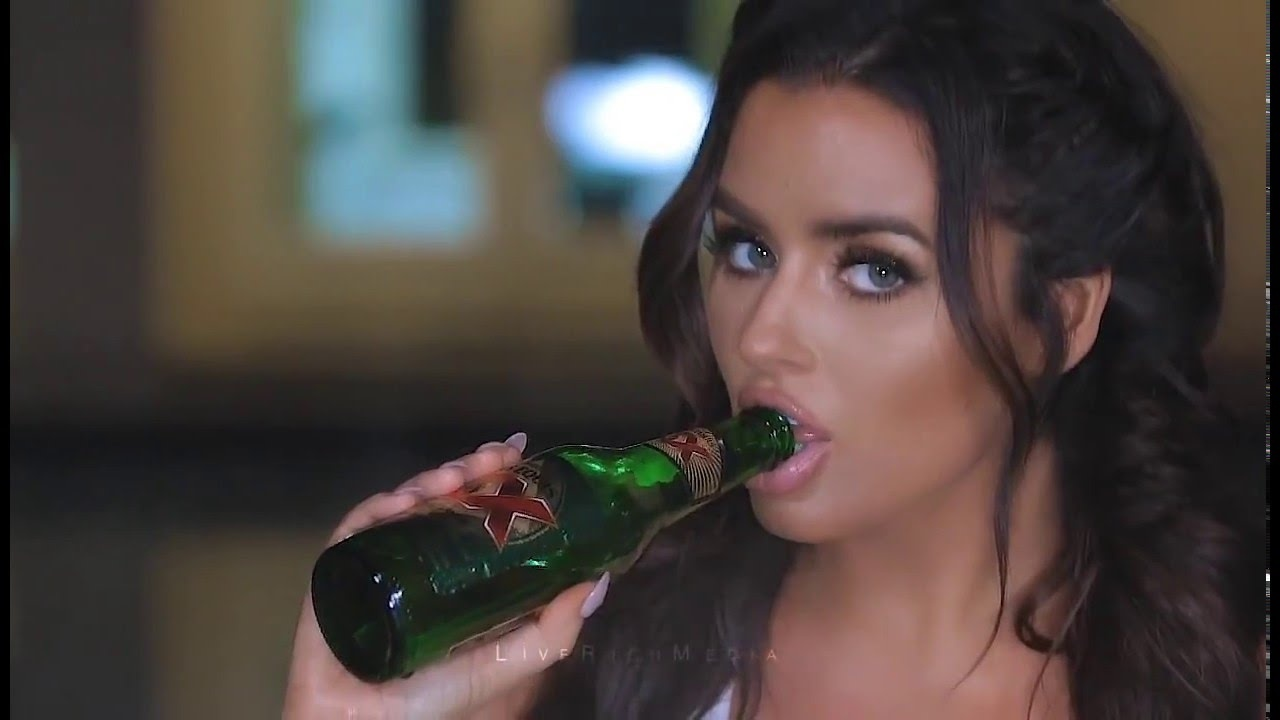beerBottle: (311, 409, 786, 667)
